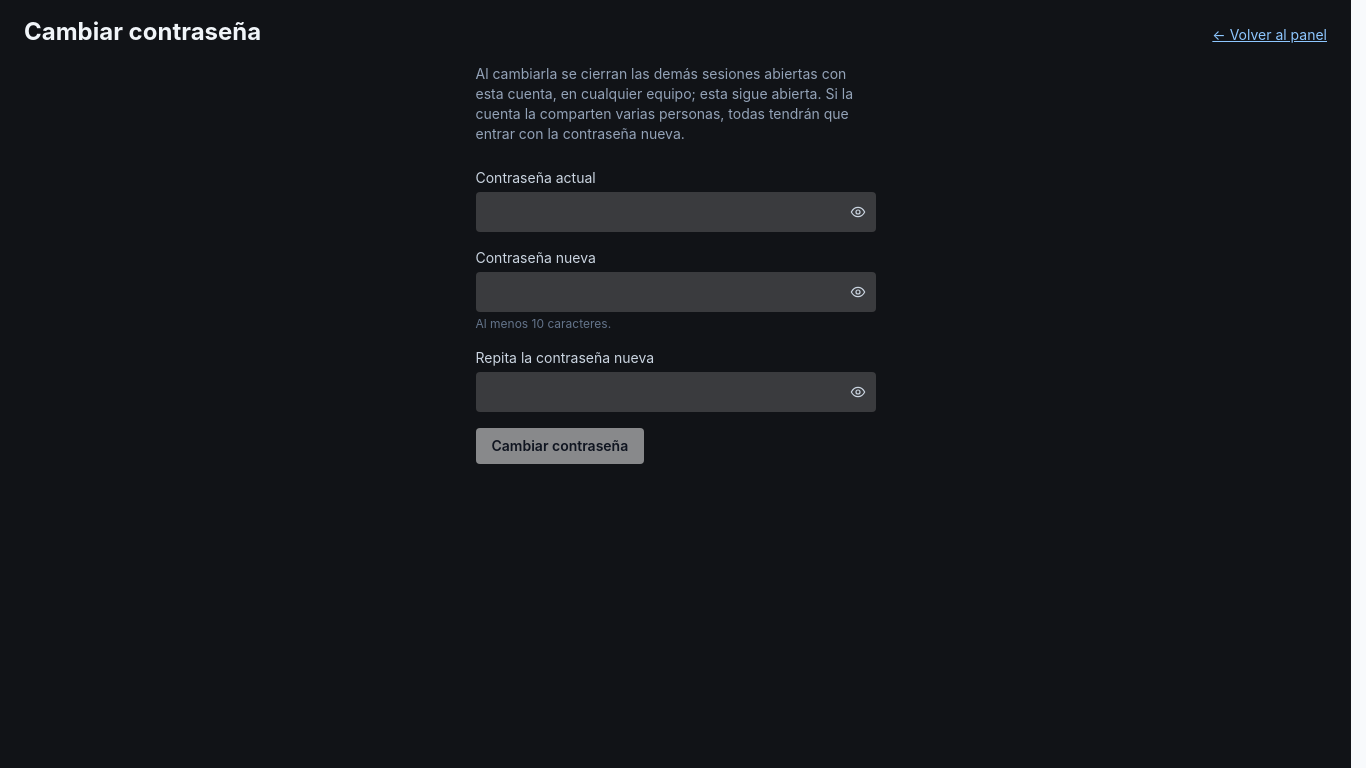
cambiar la propia contraseña (US-61) › sin otras sesiones abiertas, lo dice
The width and height of the screenshot is (1366, 768).
Type "una-clave-larga" into the password field labelled "Contraseña actual" at coordinates (676, 212), box [476,192,876,232]
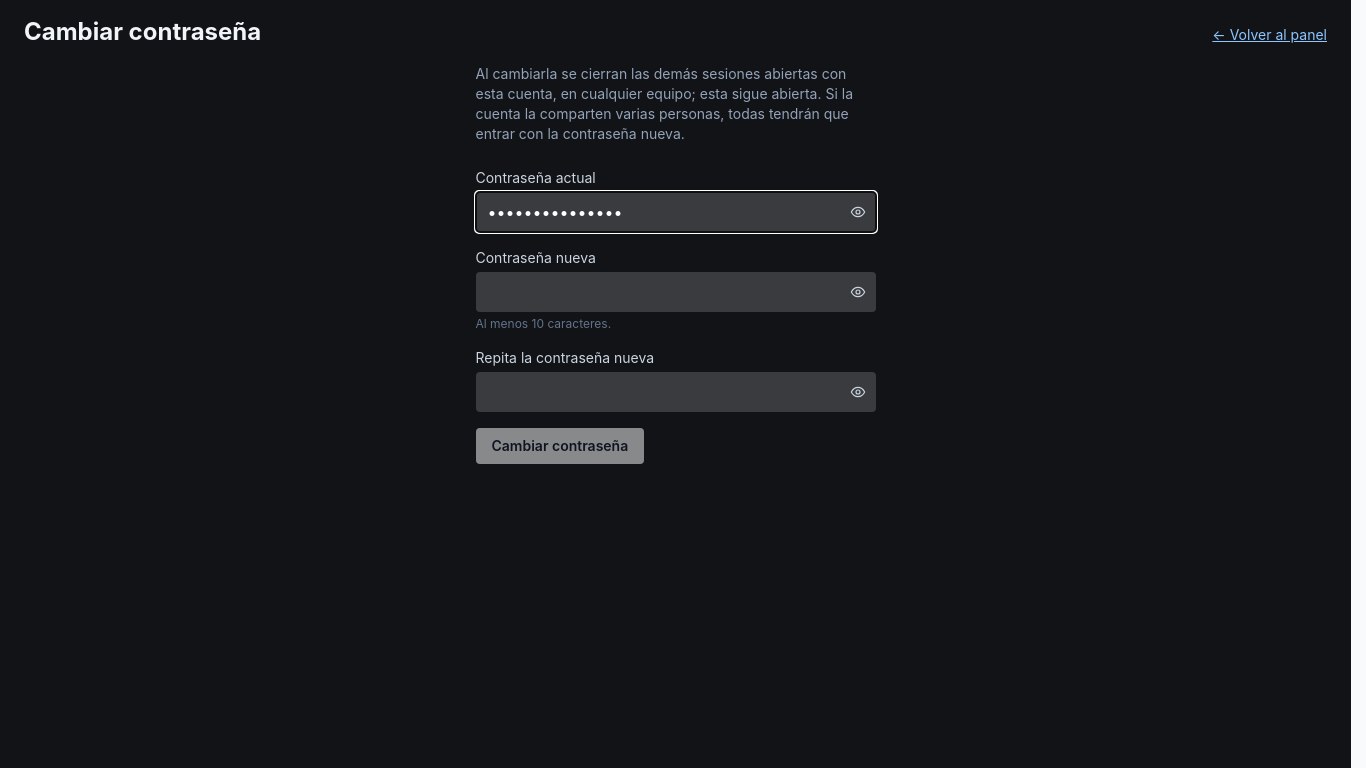
Type "otra-clave-larga" into the password field labelled "Contraseña nueva" at coordinates (676, 292), box [476,272,876,312]
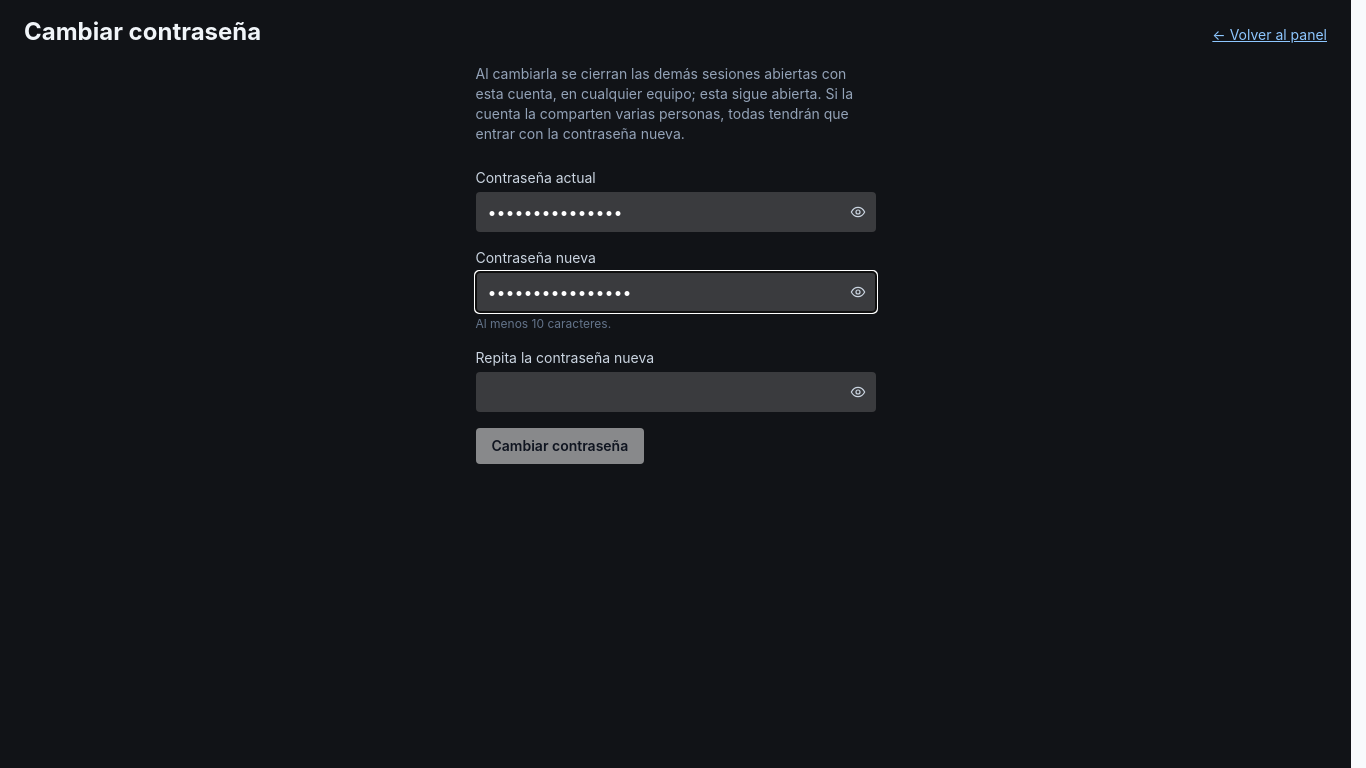
Type "otra-clave-larga" into the password field labelled "Repita la contraseña nueva" at coordinates (676, 392), box [476,372,876,412]
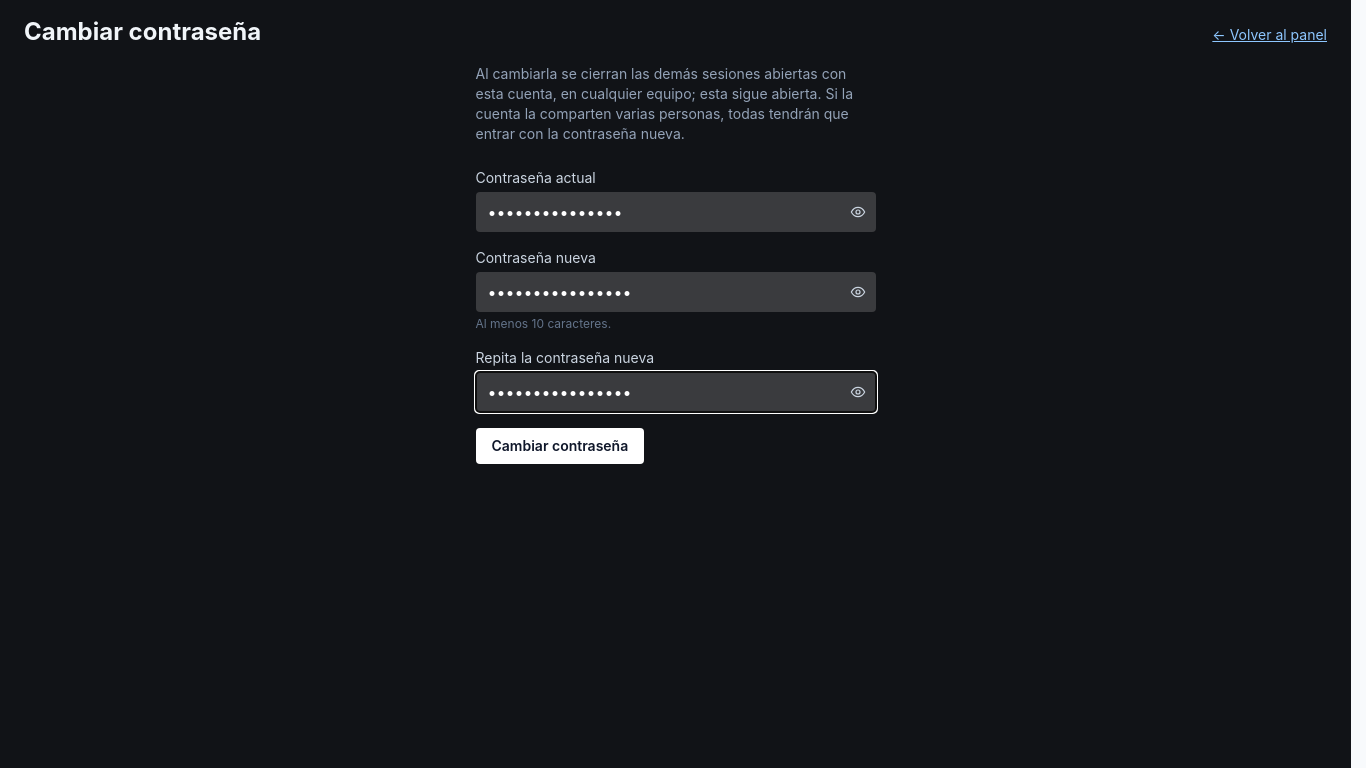
Click the button "Cambiar contraseña" at coordinates (560, 446), box [476,428,644,464]
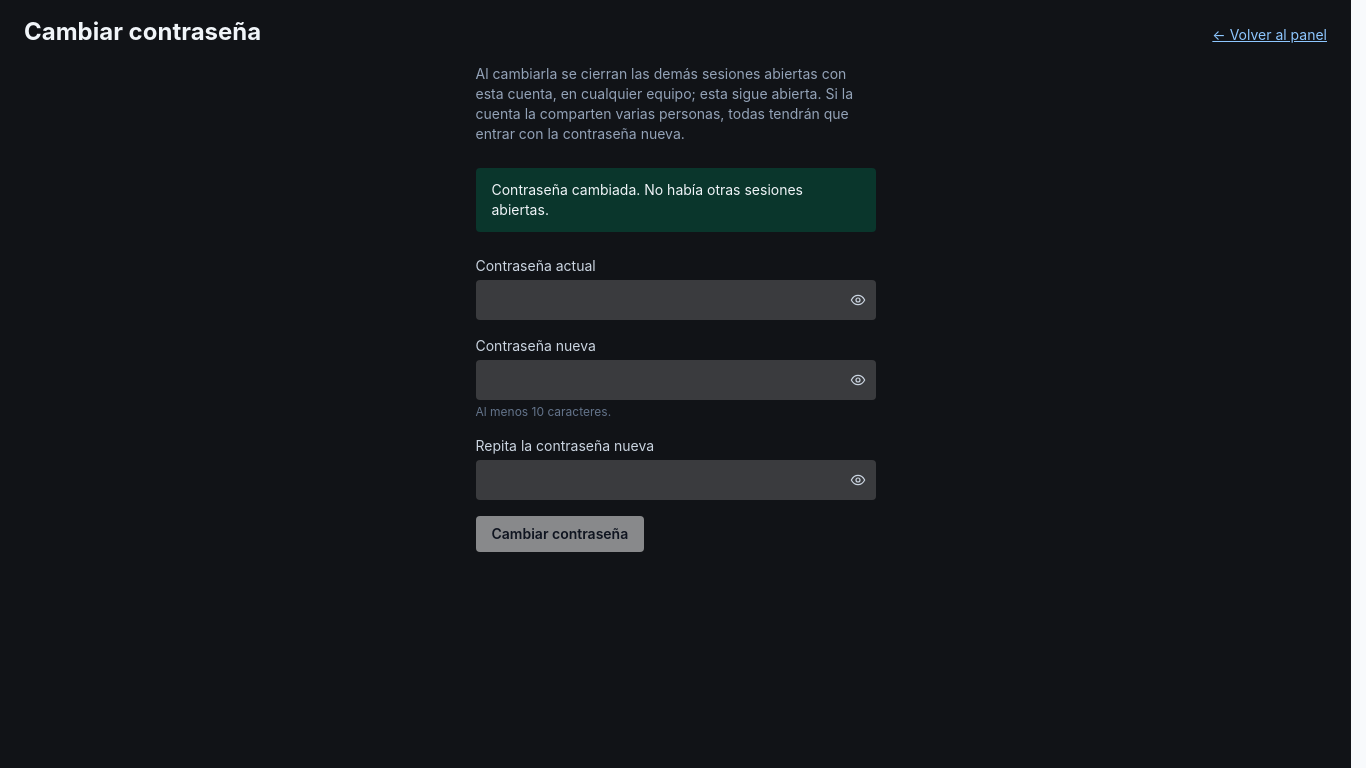
Expected: the message shows "No había otras sesiones abiertas.", [492,181,803,218]
